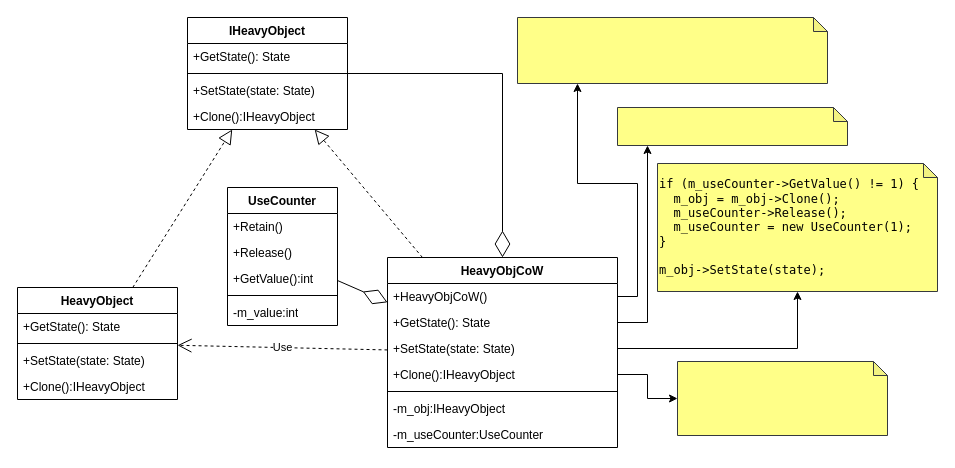
Image size: 955x468. Some labels were removed from this diagram. Each missing label, with the centre of its shape:
m_obj = HeavyObj(); m_useCount = new UseCounter(1);: pixel 672 50
m_useCounter.Retain(); // Shallow copy return HeavyObjCoW(*this);: pixel 782 398
return m_obj->GetState();: pixel 732 126
